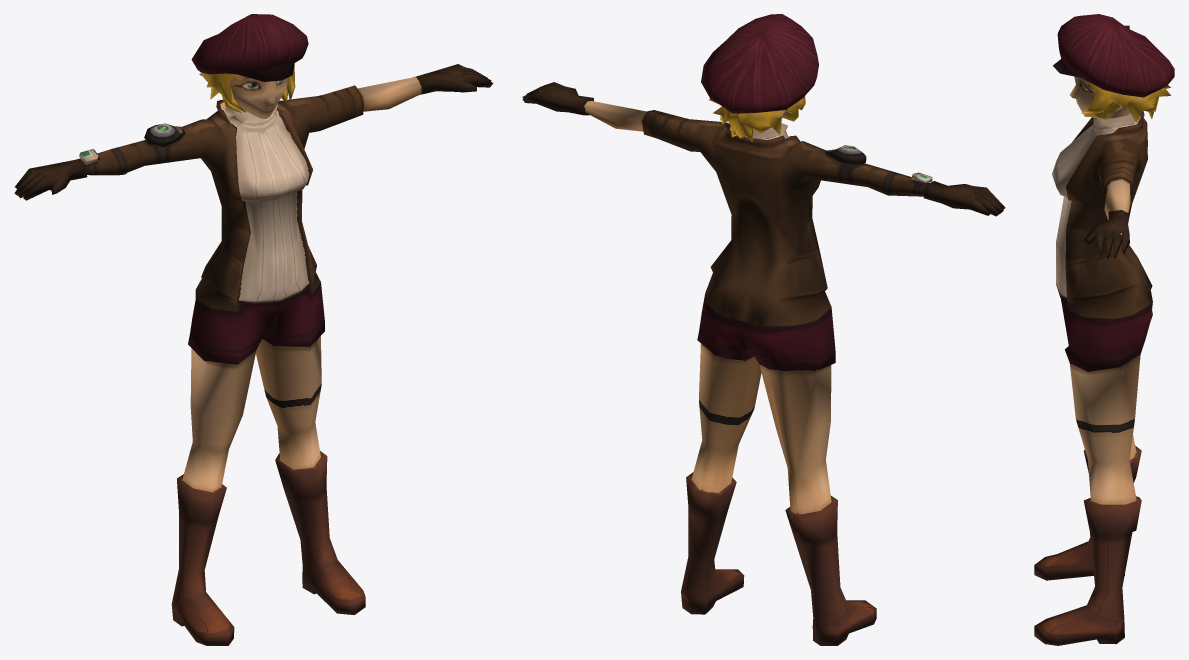
File: harley_LP1.fbx
The picture shows the model from 3 angles, left to right: view 1: azimuth 30°, elevation 25°; view 2: azimuth 150°, elevation 25°; view 3: azimuth 270°, elevation 25°; orthographic projection.
Parts seen in each view (by area): view 1: Cylinder.002; view 2: Cylinder.002; view 3: Cylinder.002.
Part boxes in pixels (x1,y1,x2,y2): Cylinder.002: (14,14,493,645); Cylinder.002: (522,14,1005,645); Cylinder.002: (1034,14,1174,645).
Size of the model in its own units: 898 by 1073 by 232.
Materials: 1 (1 with a texture image).
